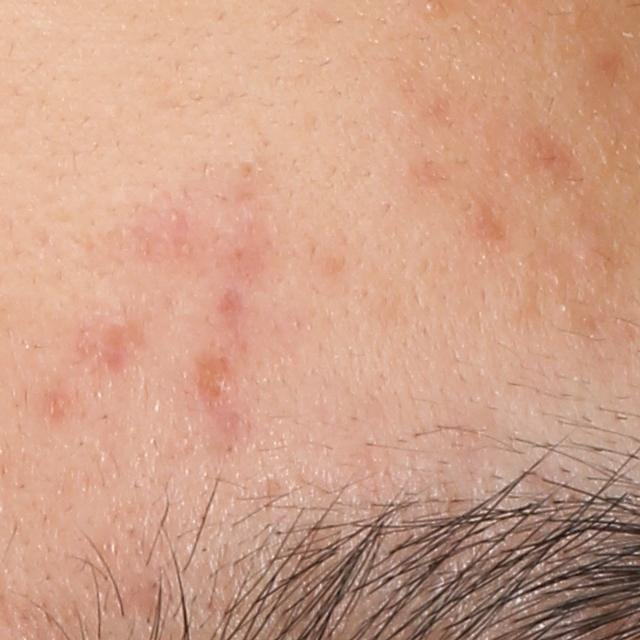papule: (196, 361, 232, 406)
